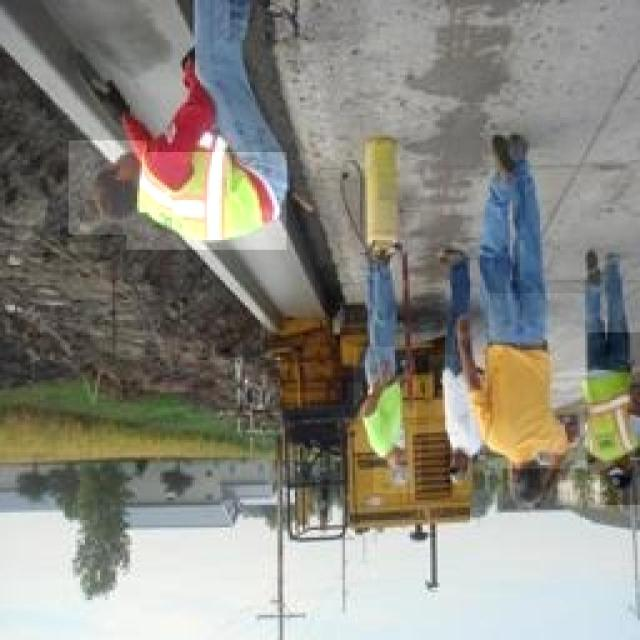Helmet: (489, 294, 585, 468), (68, 140, 146, 234), (354, 347, 416, 453), (428, 355, 490, 453), (504, 446, 564, 508), (374, 440, 422, 493), (600, 453, 640, 505), (445, 445, 483, 490)
Safety Vest: (127, 152, 287, 250), (587, 332, 640, 474)
